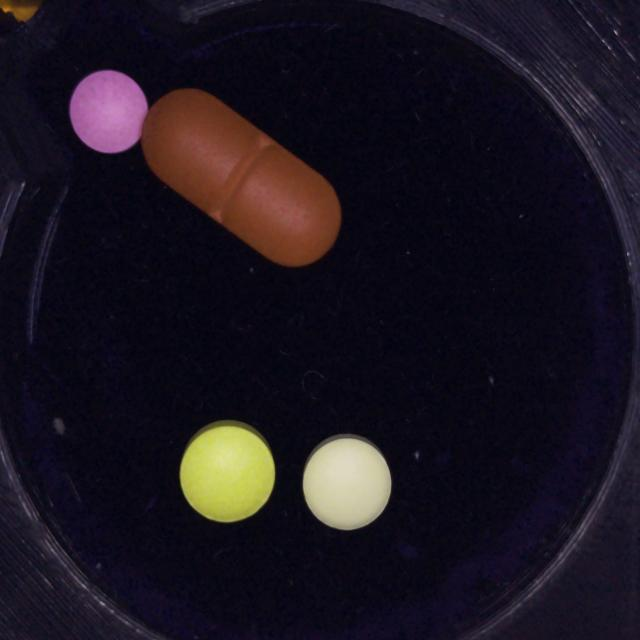Pill: (141, 89, 341, 267), (179, 421, 275, 522), (303, 435, 391, 530), (69, 70, 148, 153)
